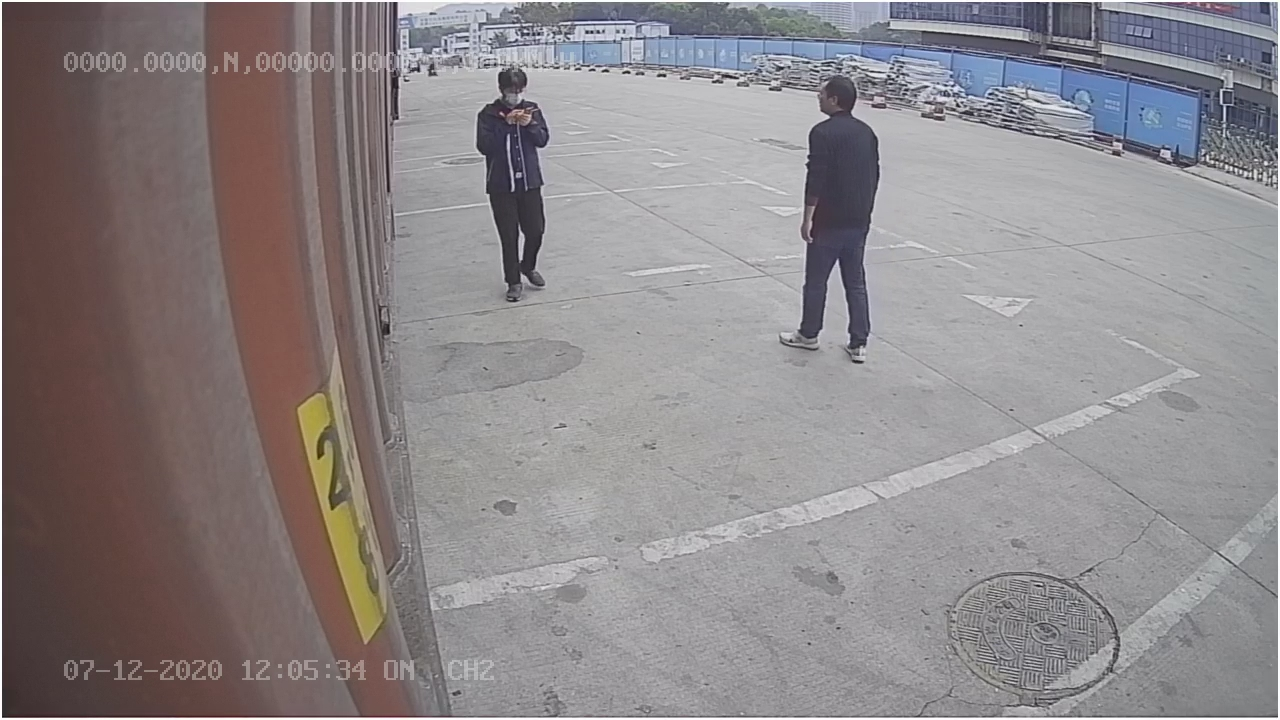person: (772, 73, 885, 367), (469, 65, 552, 302)
